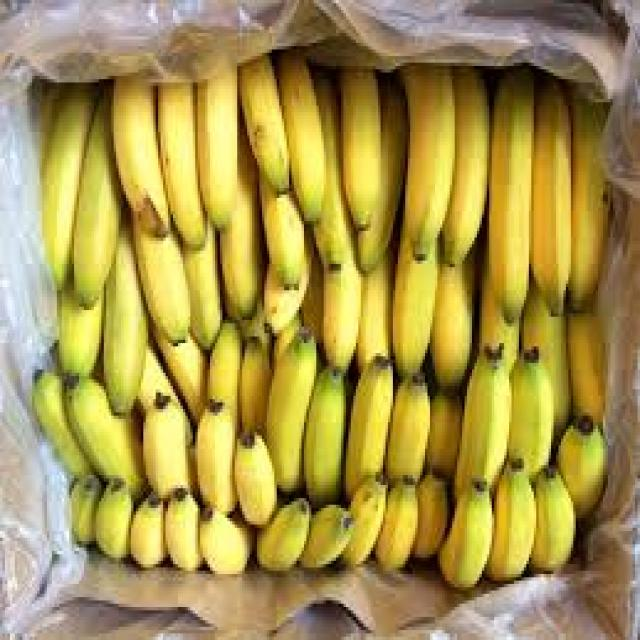organic waste: (57, 86, 603, 524), (69, 82, 166, 307), (106, 76, 200, 237), (247, 82, 321, 284), (205, 89, 262, 327), (153, 86, 230, 241), (487, 63, 531, 323), (272, 46, 336, 221), (396, 63, 452, 257), (511, 254, 571, 435), (566, 72, 610, 314), (306, 63, 358, 267), (438, 59, 490, 260), (37, 89, 114, 224), (304, 212, 363, 380), (531, 66, 571, 313), (59, 376, 141, 492), (99, 224, 146, 416), (195, 79, 257, 221), (354, 76, 401, 260), (294, 336, 344, 502), (54, 214, 102, 386), (262, 314, 306, 492), (237, 59, 294, 188), (388, 218, 432, 382), (128, 221, 188, 340), (336, 59, 378, 221), (459, 343, 506, 485), (168, 215, 220, 343), (252, 221, 314, 327), (558, 270, 600, 426), (482, 448, 531, 580), (423, 234, 467, 380), (430, 465, 484, 581), (188, 376, 235, 508), (138, 379, 193, 488), (467, 238, 516, 360), (94, 465, 156, 558), (511, 346, 556, 472), (250, 482, 314, 568), (30, 363, 99, 442), (50, 383, 119, 462), (353, 244, 393, 380), (220, 426, 279, 518), (336, 459, 386, 564), (346, 340, 385, 472), (531, 456, 576, 568), (193, 492, 257, 570), (556, 406, 600, 518), (146, 323, 205, 402), (301, 472, 351, 564), (410, 465, 455, 564), (128, 478, 178, 564), (371, 469, 415, 564), (165, 478, 212, 564), (393, 360, 427, 475), (238, 310, 270, 429), (203, 307, 237, 409), (69, 465, 111, 538), (430, 373, 457, 475)
